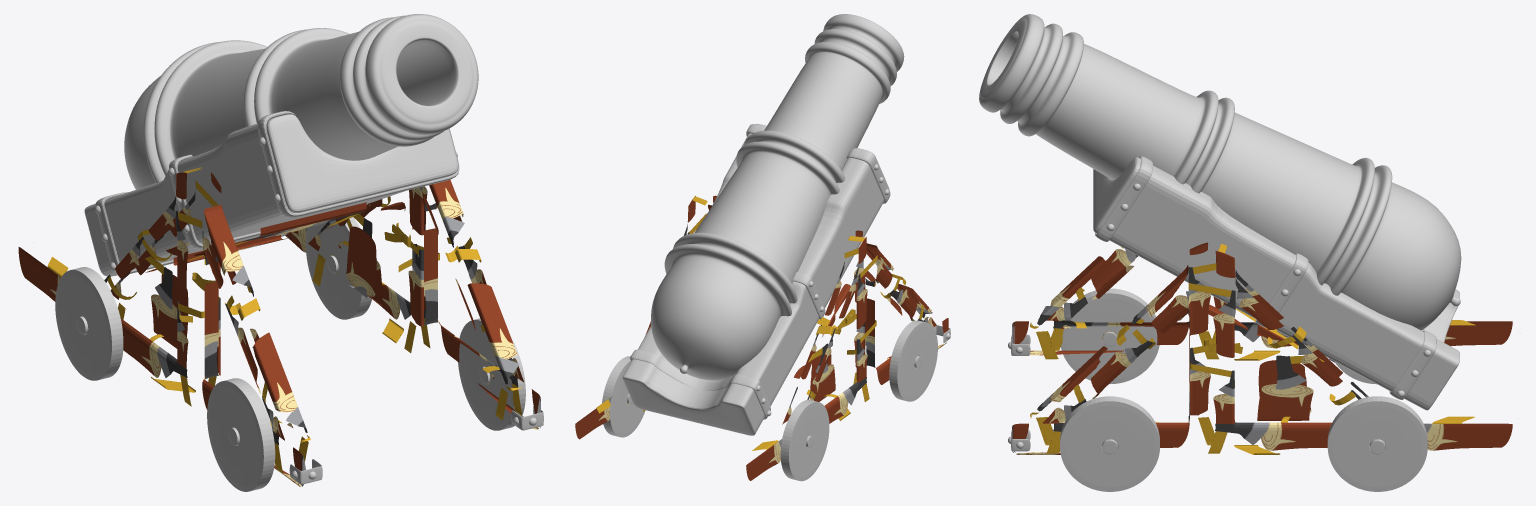
Rendered from Canon.fbx.
3 views of the same model, side by side, from view 1: azimuth 30°, elevation 25°; view 2: azimuth 150°, elevation 25°; view 3: azimuth 270°, elevation 25° (orthographic). The views are drawn at different scales.
Visible parts, largest first — view 1: Cylinder, WoodenArmature, Plane.001, Circle, Circle.001, Plane.003; view 2: Cylinder, Plane.001, WoodenArmature, Circle.001, Circle; view 3: Cylinder, WoodenArmature, Plane.001, Circle, Circle.001.
Boxes of the visible parts, left/top/right/bottom form: Cylinder: left=124, top=14, right=478, bottom=189; WoodenArmature: left=18, top=167, right=540, bottom=487; Plane.001: left=84, top=111, right=459, bottom=276; Circle: left=207, top=318, right=525, bottom=491; Circle.001: left=55, top=217, right=371, bottom=380; Plane.003: left=289, top=406, right=543, bottom=484; Cylinder: left=651, top=14, right=904, bottom=380; Plane.001: left=622, top=123, right=890, bottom=435; WoodenArmature: left=575, top=195, right=948, bottom=480; Circle.001: left=602, top=356, right=829, bottom=481; Circle: left=889, top=320, right=937, bottom=401; Cylinder: left=979, top=14, right=1461, bottom=330; WoodenArmature: left=1012, top=242, right=1512, bottom=454; Plane.001: left=1093, top=156, right=1459, bottom=410; Circle: left=1060, top=288, right=1159, bottom=491; Circle.001: left=1327, top=362, right=1427, bottom=491.
Size of the model in its own units: 404 by 681 by 805.
